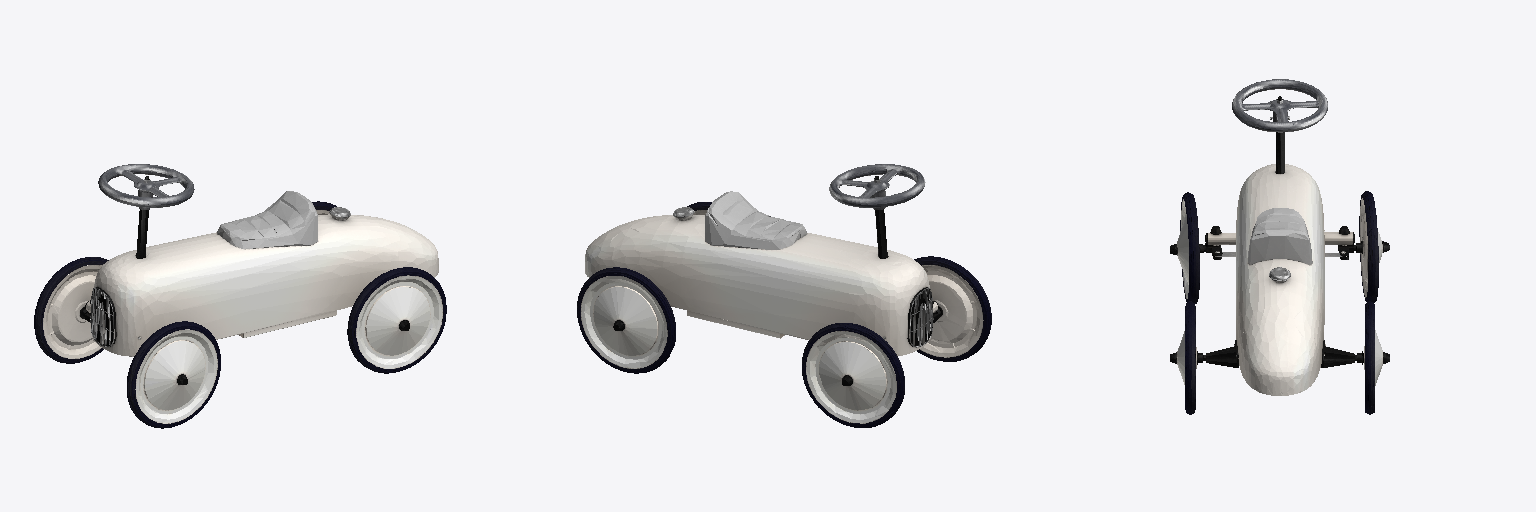
3 views of the same model, side by side, from view 1: azimuth 30°, elevation 25°; view 2: azimuth 150°, elevation 25°; view 3: azimuth 270°, elevation 25° (orthographic).
Visible parts, largest first — view 1: solid_001, solid_005, solid_003, solid_002, solid_006, solid_004; view 2: solid_001, solid_005, solid_003, solid_002, solid_004, solid_006; view 3: solid_001, solid_005, solid_003, solid_002, solid_006.
Part boxes in pixels (left/top/right/bottom): solid_001: left=43, top=210, right=442, bottom=423; solid_005: left=34, top=201, right=446, bottom=428; solid_003: left=217, top=191, right=317, bottom=248; solid_002: left=98, top=164, right=194, bottom=207; solid_006: left=80, top=176, right=409, bottom=384; solid_004: left=90, top=179, right=350, bottom=346; solid_001: left=581, top=210, right=983, bottom=423; solid_005: left=577, top=202, right=991, bottom=427; solid_003: left=705, top=191, right=806, bottom=249; solid_002: left=829, top=164, right=925, bottom=207; solid_004: left=673, top=179, right=933, bottom=347; solid_006: left=613, top=176, right=942, bottom=385; solid_001: left=1177, top=164, right=1382, bottom=395; solid_005: left=1180, top=191, right=1378, bottom=414; solid_003: left=1248, top=208, right=1312, bottom=264; solid_002: left=1232, top=79, right=1327, bottom=132; solid_006: left=1170, top=96, right=1389, bottom=367.
Bounding box in the file's own units: 1.79 × 1.02 × 0.9552.
1 materials, 1 textured.